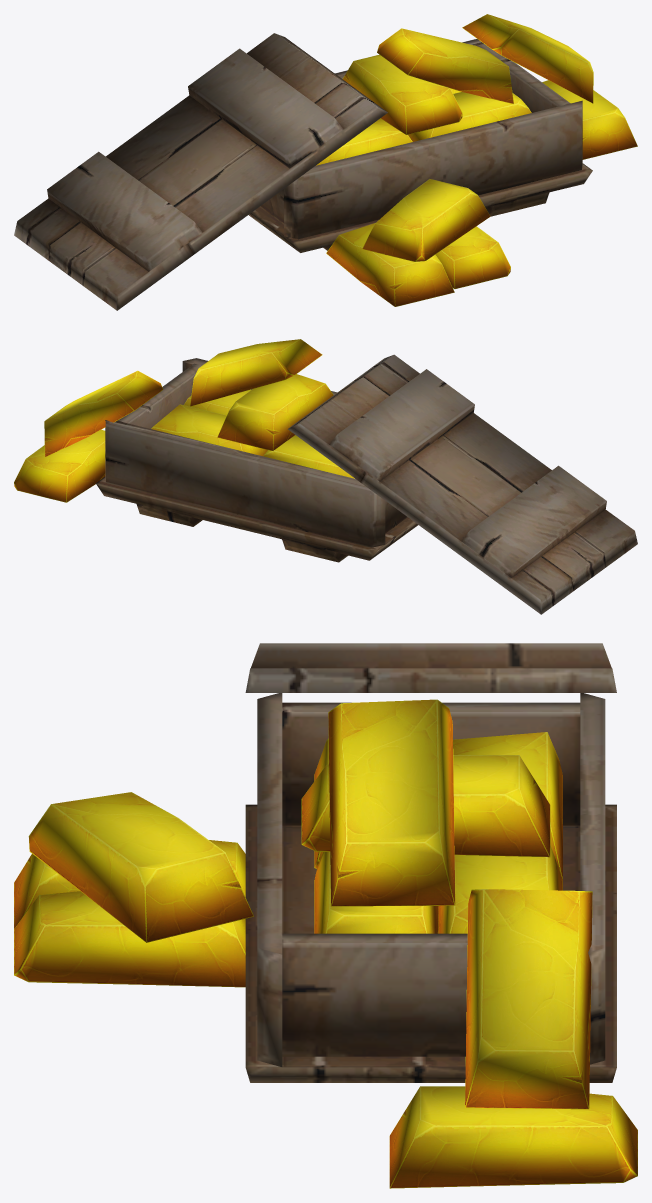
Rendered from gold 3.obj.
3 renders of one model, top to bottom at view 1: azimuth 30°, elevation 25°; view 2: azimuth 150°, elevation 25°; view 3: azimuth 270°, elevation 25°, orthographic. The views are drawn at different scales.
Parts seen in each view (by area): view 1: Crate_04, Gold_18, Gold_11, Gold_20; view 2: Crate_04, Gold_11, Gold_18, Gold_20; view 3: Gold_18, Crate_04, Gold_11, Gold_20.
Part boxes in pixels (x1,y1,x2,y2): Crate_04: (14, 33, 592, 310); Gold_18: (326, 14, 637, 306); Gold_11: (343, 28, 513, 134); Gold_20: (316, 88, 531, 165); Crate_04: (96, 354, 637, 614); Gold_11: (190, 339, 333, 450); Gold_18: (14, 370, 163, 502); Gold_20: (151, 389, 354, 478); Gold_18: (14, 792, 637, 1188); Crate_04: (245, 643, 616, 1082); Gold_11: (301, 699, 550, 906); Gold_20: (314, 732, 562, 933).
Size of the model in its own units: 27.69 by 7.68 by 14.83.
